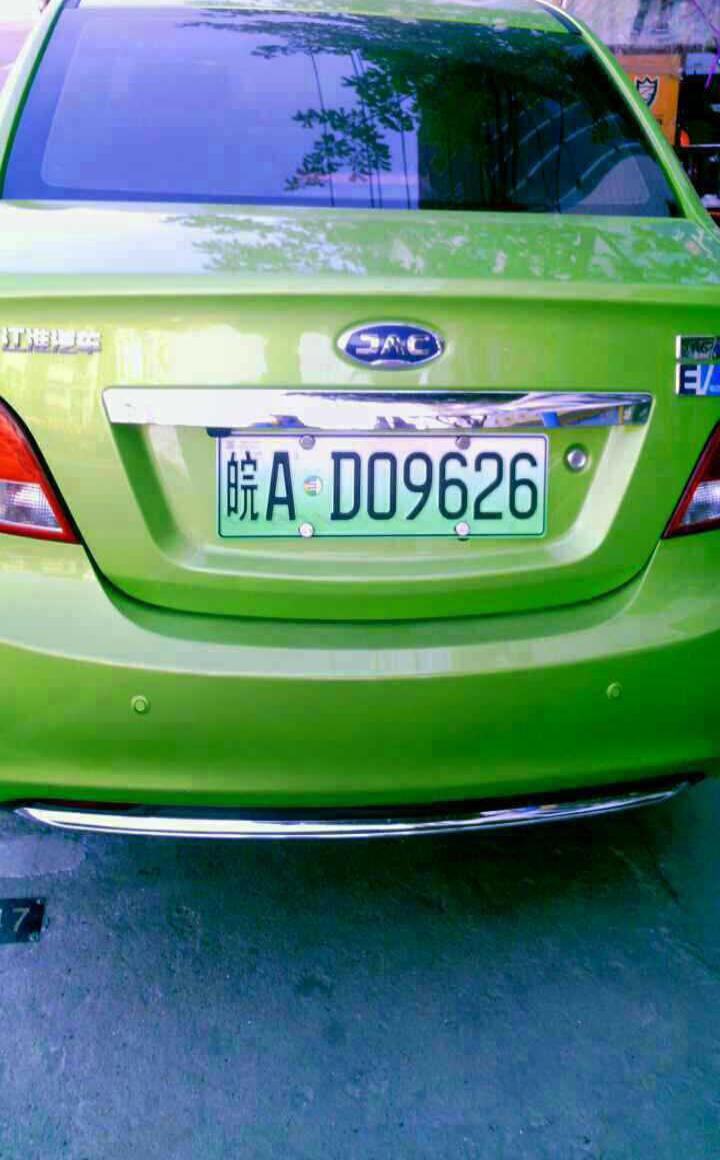car_id: (217, 436, 544, 535)
